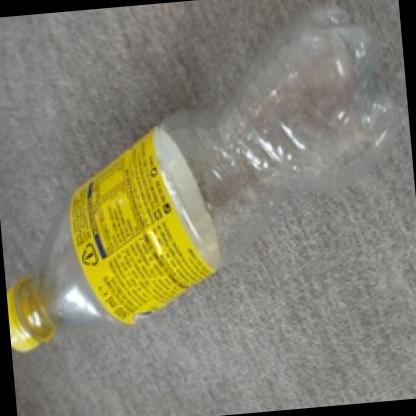plastic_bottles: (0, 0, 414, 400)
